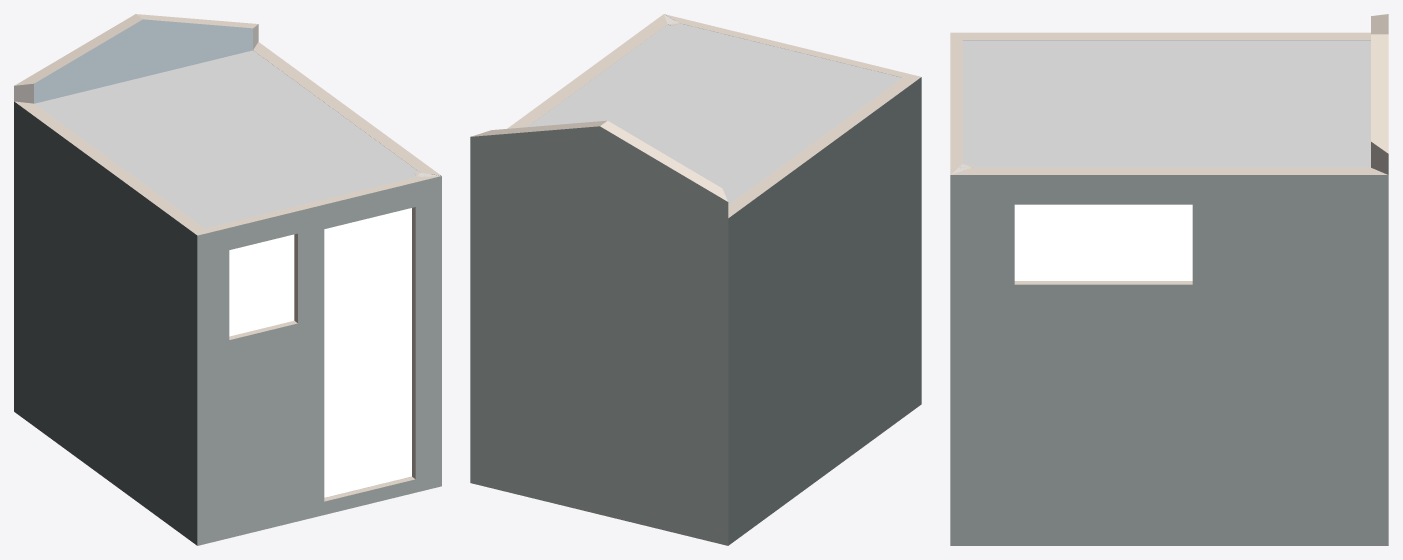
3 views of the same model, side by side, from view 1: azimuth 30°, elevation 25°; view 2: azimuth 150°, elevation 25°; view 3: azimuth 270°, elevation 25° (orthographic). The views are drawn at different scales.
Visible parts, largest first — view 1: Wall_4, Wall_1, Ceiling_Laundry, Door_0, Wall_2, Window_0, Wall_3; view 2: Wall_2, Wall_4, Ceiling_Laundry, Wall_3, Wall_1; view 3: Wall_3, Ceiling_Laundry, Window_1, Wall_4, Wall_2, Wall_1.
Part boxes in pixels (x1,y1,x2,y2): Wall_4: (14, 101, 204, 545); Wall_1: (197, 176, 441, 545); Ceiling_Laundry: (34, 50, 429, 228); Door_0: (324, 208, 411, 497); Wall_2: (15, 14, 257, 103); Window_0: (229, 234, 294, 336); Wall_3: (253, 42, 441, 175); Wall_2: (470, 120, 728, 545); Wall_4: (728, 77, 921, 545); Ceiling_Laundry: (528, 19, 902, 204); Wall_3: (507, 14, 667, 128); Wall_1: (664, 14, 920, 77); Wall_3: (950, 167, 1388, 545); Ceiling_Laundry: (959, 40, 1370, 170); Window_1: (1014, 204, 1192, 280); Wall_4: (951, 32, 1370, 40); Wall_2: (1371, 14, 1388, 153); Wall_1: (950, 33, 962, 174).
Size of the model in its own units: 1.93 by 2.77 by 2.5.
Materials: 11 (4 with a texture image).
